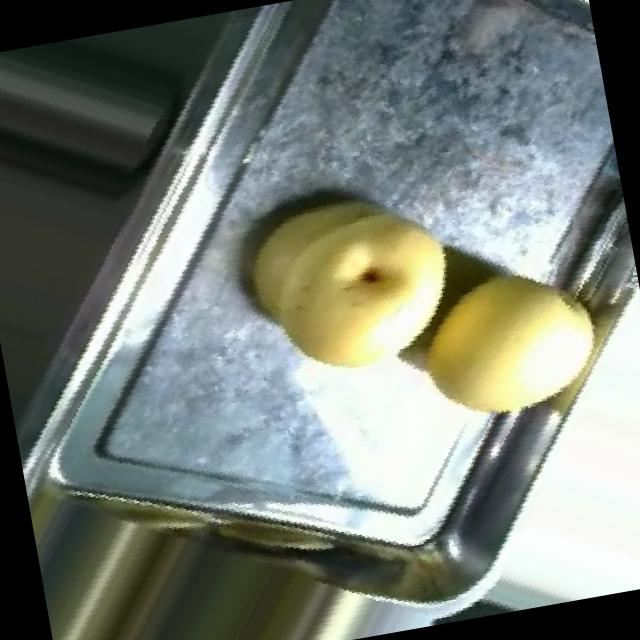Fruit: (213, 158, 479, 406), (390, 240, 630, 452)
